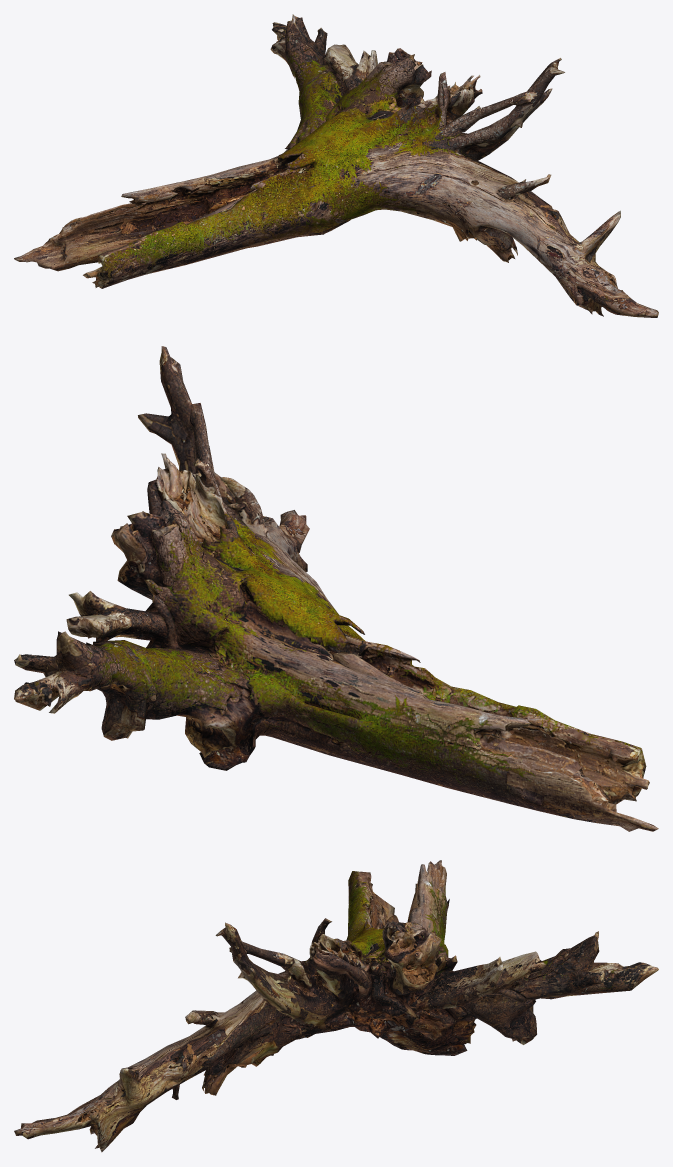
The model's file is Wood_Root22.fbx.
3 renders of one model, top to bottom at view 1: azimuth 30°, elevation 25°; view 2: azimuth 150°, elevation 25°; view 3: azimuth 270°, elevation 25°, orthographic. The views are drawn at different scales.
Parts seen in each view (by area): view 1: Wood_Root22; view 2: Wood_Root22; view 3: Wood_Root22.
Part boxes in pixels (x1,y1,x2,y2): Wood_Root22: [14, 14, 658, 317]; Wood_Root22: [14, 346, 658, 831]; Wood_Root22: [14, 860, 658, 1152].
Bounding box in the file's own units: 88 × 38.15 × 95.27.
1 material, 1 textured.
